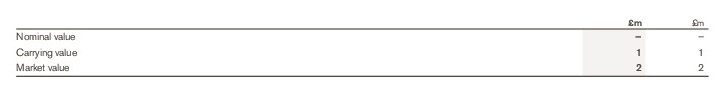table: (0, 0, 724, 89)
